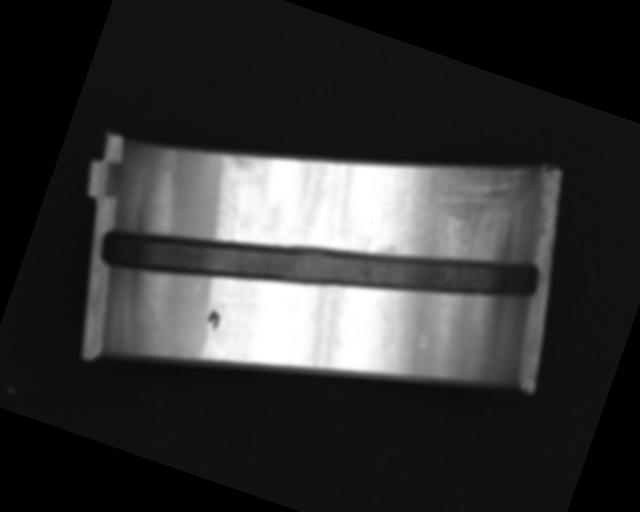blot: (202, 308, 224, 333)
bruise: (415, 333, 429, 349)
gap: (95, 131, 541, 400)
nick: (217, 194, 246, 243)
scratch: (374, 129, 538, 294)
